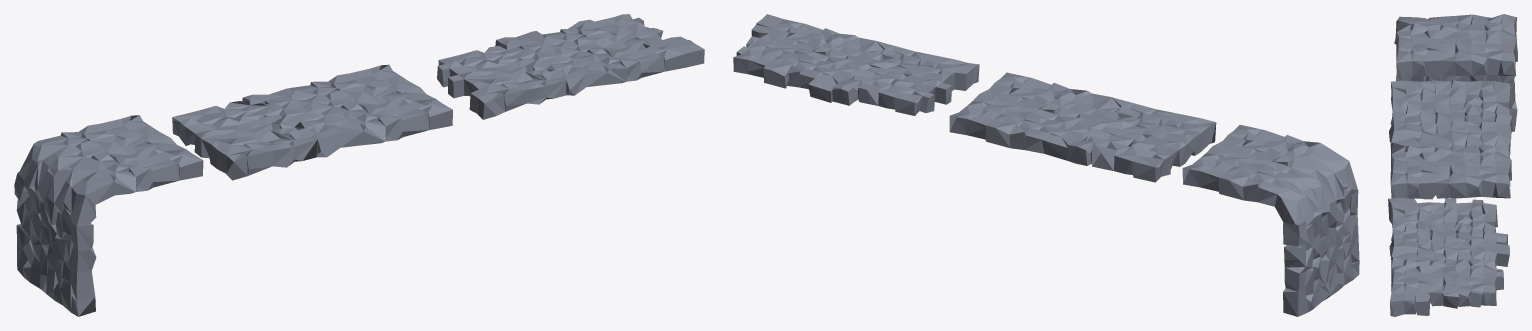
Rendered from stone_wall.FBX.
The picture shows the model from 3 angles, left to right: view 1: azimuth 30°, elevation 25°; view 2: azimuth 150°, elevation 25°; view 3: azimuth 270°, elevation 25°; orthographic projection. The views are drawn at different scales.
Visible parts, largest first — view 1: wall_turn, wall_one, wall_two; view 2: wall_turn, wall_one, wall_two; view 3: wall_one, wall_two, wall_turn.
Part boxes in pixels (left/top/right/bottom): wall_turn: left=14, top=115, right=203, bottom=316; wall_one: left=172, top=64, right=452, bottom=180; wall_two: left=437, top=14, right=704, bottom=119; wall_turn: left=1182, top=124, right=1359, bottom=316; wall_one: left=949, top=72, right=1216, bottom=182; wall_two: left=733, top=14, right=979, bottom=115; wall_one: left=1389, top=80, right=1512, bottom=199; wall_two: left=1388, top=198, right=1509, bottom=316; wall_turn: left=1394, top=14, right=1517, bottom=131.
Size of the model in its own units: 1363 by 275 by 257.
